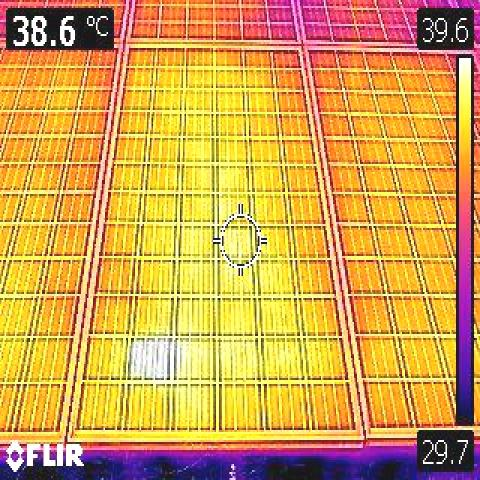fault: (128, 336, 172, 381)
